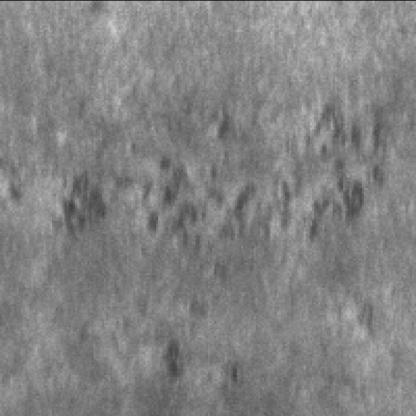rolled-in_scale: (133, 100, 254, 389), (258, 106, 387, 341), (48, 171, 127, 244)
